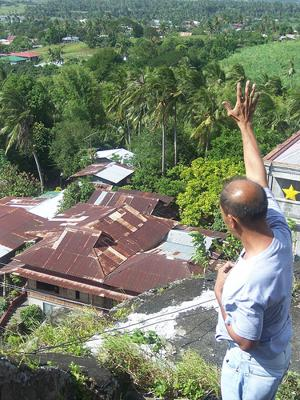person: (214, 78, 295, 400)
